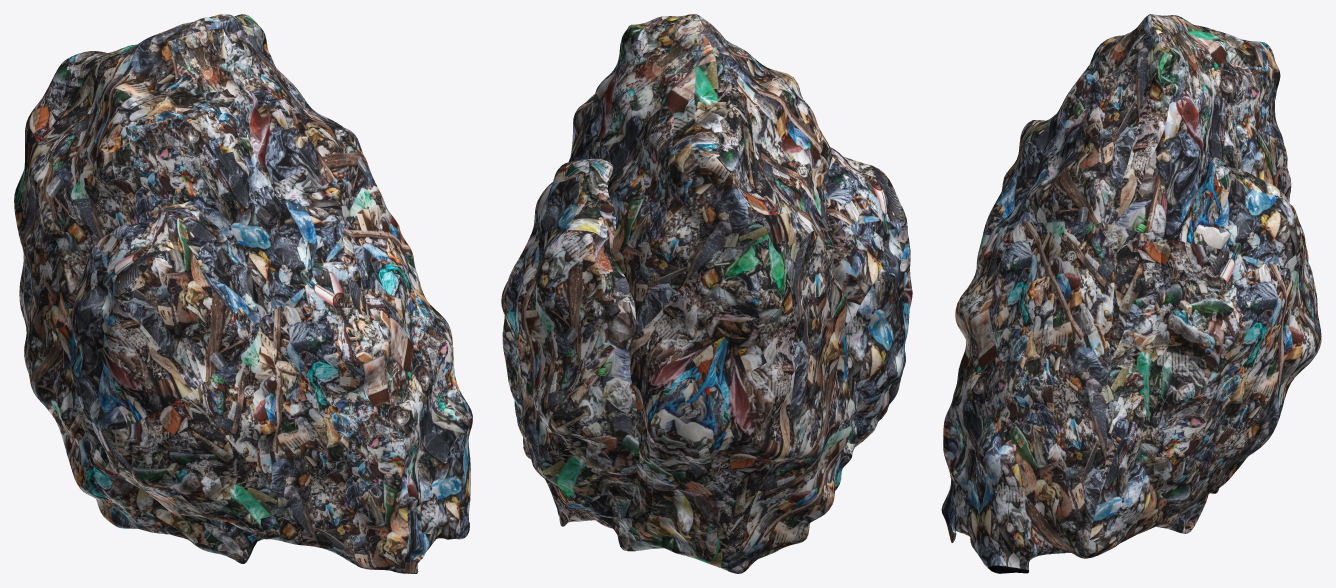
Rendered from SM_Hub_Pile.fbx.
3 views of the same model, side by side, from view 1: azimuth 30°, elevation 25°; view 2: azimuth 150°, elevation 25°; view 3: azimuth 270°, elevation 25° (orthographic). The views are drawn at different scales.
Parts seen in each view (by area): view 1: SM_Hub_Pile_Baked; view 2: SM_Hub_Pile_Baked; view 3: SM_Hub_Pile_Baked.
Boxes of the visible parts, x1,y1,x2,y2 form: SM_Hub_Pile_Baked: [14, 14, 472, 573]; SM_Hub_Pile_Baked: [501, 14, 912, 573]; SM_Hub_Pile_Baked: [941, 14, 1321, 573].
Bounding box in the file's own units: 1695 × 2308 × 1663.
Materials: 1 (1 with a texture image).
